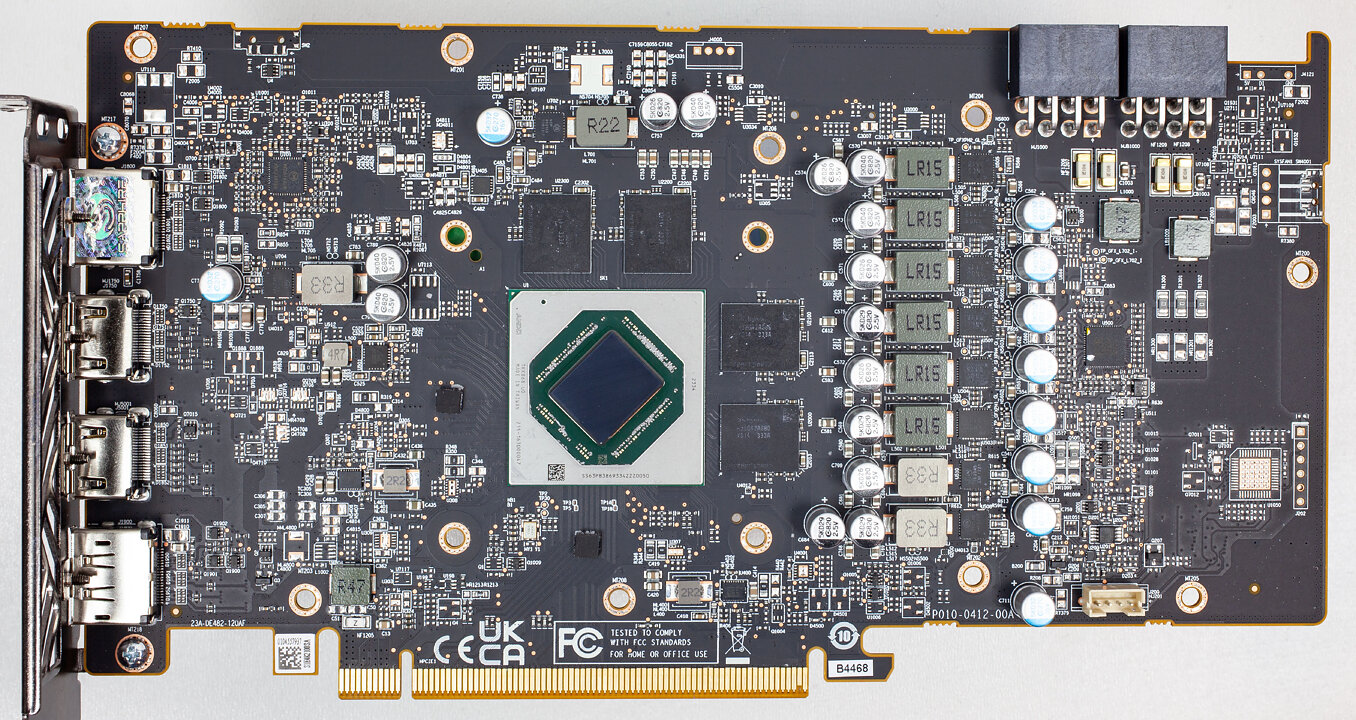Induktor: (890, 297, 950, 345), (893, 248, 948, 295), (890, 199, 950, 241), (893, 146, 948, 191), (890, 403, 947, 445), (298, 263, 357, 303), (893, 505, 946, 549), (893, 454, 947, 495), (573, 106, 627, 146), (1168, 216, 1213, 263), (890, 353, 947, 390), (1098, 199, 1141, 241), (331, 564, 371, 605), (676, 577, 704, 607), (381, 468, 411, 494), (323, 340, 349, 367)
